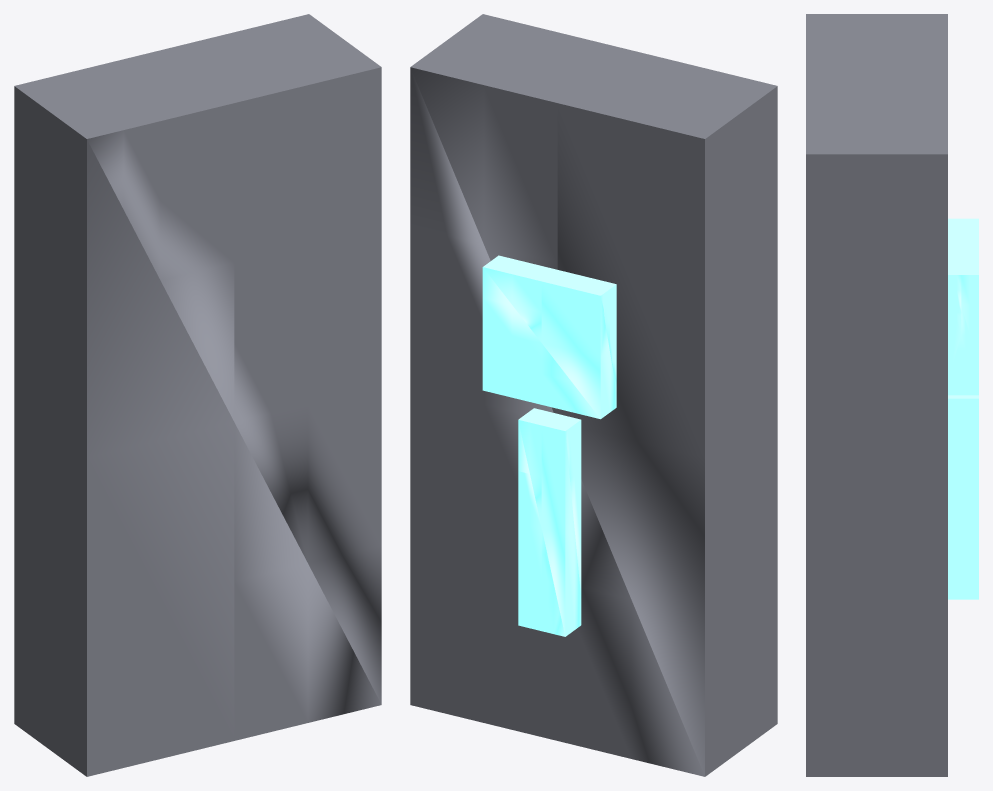
The model's file is rune_stone.glb.
The picture shows the model from 3 angles, left to right: view 1: azimuth 30°, elevation 25°; view 2: azimuth 150°, elevation 25°; view 3: azimuth 270°, elevation 25°; orthographic projection. The views are drawn at different scales.
Parts seen in each view (by area): view 1: RuneStone; view 2: RuneStone; view 3: RuneStone.
Part boxes in pixels (x1,y1,x2,y2): RuneStone: (14,14,381,776); RuneStone: (410,14,777,776); RuneStone: (806,14,978,776).
Bounding box in the file's own units: 0.75 × 1.55 × 0.39.
